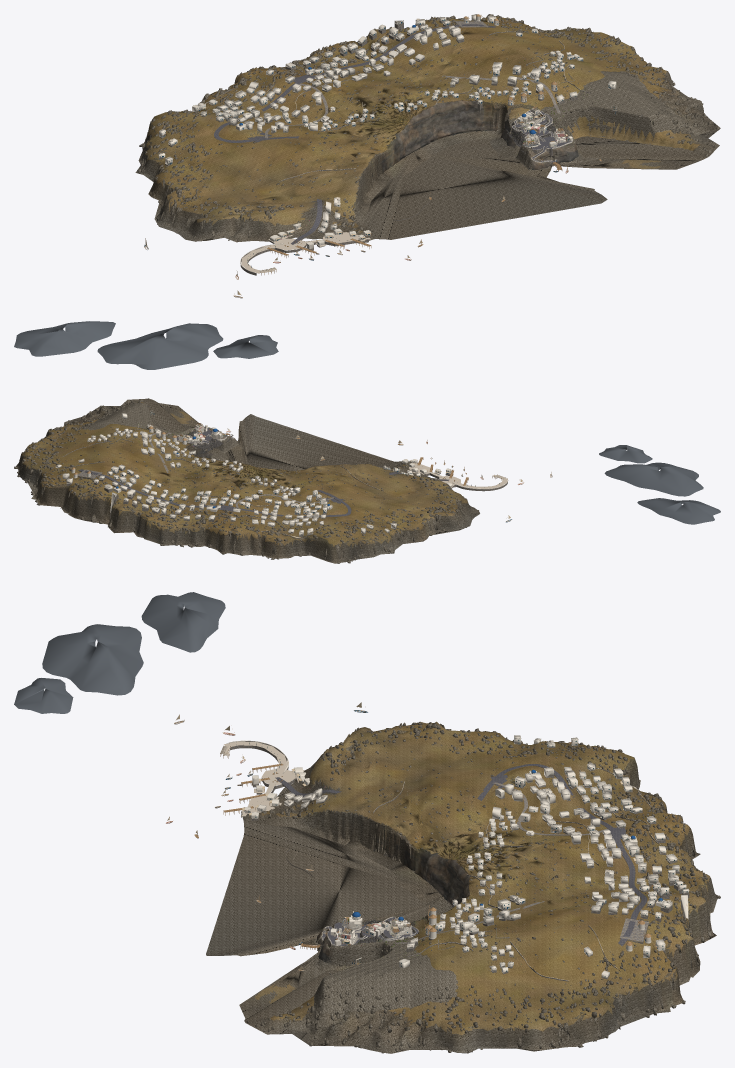
The model's file is santorini_v4_lite-DUpCu8OG.glb.
3 views of the same model, one above another, from view 1: azimuth 30°, elevation 25°; view 2: azimuth 150°, elevation 25°; view 3: azimuth 270°, elevation 25° (orthographic). The views are drawn at different scales.
Visible parts, largest first — view 1: cell_big, cell_0,0, cell_2,2, cell_2,1, cell_-5,3; view 2: cell_big, cell_2,1, cell_-5,3, cell_2,2; view 3: cell_big, cell_0,0, cell_2,1, cell_-5,3, cell_2,2.
Part boxes in pixels (x1=…): cell_big: x1=14, y1=14, x2=720, y2=369; cell_0,0: x1=395, y1=100, x2=485, y2=159; cell_2,2: x1=514, y1=129, x2=591, y2=171; cell_2,1: x1=506, y1=106, x2=572, y2=156; cell_-5,3: x1=269, y1=223, x2=371, y2=251; cell_big: x1=14, y1=398, x2=720, y2=563; cell_2,1: x1=177, y1=430, x2=229, y2=454; cell_-5,3: x1=402, y1=459, x2=452, y2=488; cell_2,2: x1=192, y1=427, x2=238, y2=452; cell_big: x1=14, y1=592, x2=720, y2=1053; cell_0,0: x1=425, y1=852, x2=470, y2=906; cell_2,1: x1=328, y1=911, x2=414, y2=953; cell_-5,3: x1=241, y1=767, x2=309, y2=820; cell_2,2: x1=300, y1=912, x2=361, y2=973.
Bounding box in the file's own units: 879 × 54.55 × 569.
Materials: 136 (85 with a texture image).
